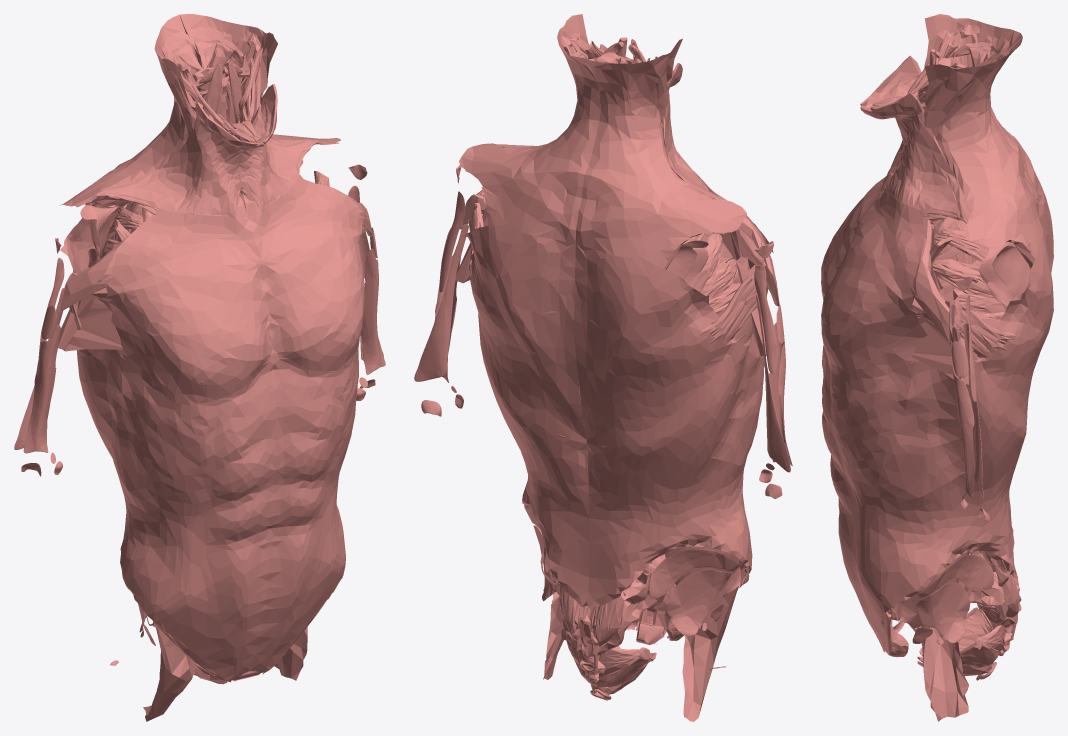
File: trunk.glb
3 views of the same model, side by side, from view 1: azimuth 30°, elevation 25°; view 2: azimuth 150°, elevation 25°; view 3: azimuth 270°, elevation 25° (orthographic). The views are drawn at different scales.
Parts seen in each view (by area): view 1: Investing abdominal fascia.r, Pectoral fascia.r, Investing abdominal fascia.l, Pectoral fascia.l, Platysma.r, Superficial investing cervical fascia.r, Platysma.l, Superficial investing cervical fascia.l, Clavipectoral fascia.r, Brachialis muscle.or, Iliopsoas fascia.r, Brachialis muscle.ol (+4 smaller); view 2: Investing abdominal fascia.r, Investing abdominal fascia.l, Superficial investing cervical fascia.r, Superficial investing cervical fascia.l, Iliopsoas fascia.r, Gluteus minimus muscle.or, Medial head of triceps brachii.ol, Sacrum, Latissimus dorsi muscle.r, Gluteus medius muscle.or, Serratus anterior muscle.r, Platysma.r (+11 smaller); view 3: Investing abdominal fascia.l, Pectoral fascia.l, Superficial investing cervical fascia.l, Platysma.l, Iliopsoas fascia.l, Serratus anterior muscle.l, Superficial investing cervical fascia.r, Gluteus minimus muscle.ol, Clavipectoral fascia.l, Pectoral fascia.r, Clavicular head of pectoralis major muscle.l, Latissimus dorsi muscle.l (+16 smaller).
Part boxes in pixels (x1,y1,x2,y2): Investing abdominal fascia.r: (60, 204, 277, 680); Pectoral fascia.r: (96, 210, 273, 405); Investing abdominal fascia.l: (249, 350, 358, 672); Pectoral fascia.l: (248, 175, 366, 371); Platysma.r: (96, 102, 260, 218); Superficial investing cervical fascia.r: (60, 15, 247, 218); Platysma.l: (239, 84, 318, 211); Superficial investing cervical fascia.l: (179, 14, 340, 216); Clavipectoral fascia.r: (58, 298, 122, 351); Brachialis muscle.or: (23, 325, 60, 453); Iliopsoas fascia.r: (143, 625, 196, 721); Brachialis muscle.ol: (361, 248, 385, 374); Investing abdominal fascia.r: (574, 240, 764, 632); Investing abdominal fascia.l: (461, 190, 589, 606); Superficial investing cervical fascia.r: (575, 38, 746, 257); Superficial investing cervical fascia.l: (459, 14, 599, 243); Iliopsoas fascia.r: (650, 554, 739, 721); Gluteus minimus muscle.or: (665, 569, 730, 635); Medial head of triceps brachii.ol: (414, 224, 468, 381); Sacrum: (559, 563, 665, 658); Latissimus dorsi muscle.r: (601, 274, 760, 566); Gluteus medius muscle.or: (649, 549, 740, 598); Serratus anterior muscle.r: (688, 233, 740, 323); Platysma.r: (662, 63, 717, 199); Investing abdominal fascia.l: (822, 229, 1053, 652); Pectoral fascia.l: (821, 192, 924, 381); Superficial investing cervical fascia.l: (884, 38, 1043, 249); Platysma.l: (860, 92, 972, 223); Iliopsoas fascia.l: (921, 624, 968, 721); Serratus anterior muscle.l: (908, 213, 1010, 365); Superficial investing cervical fascia.r: (869, 14, 1043, 207); Gluteus minimus muscle.ol: (916, 582, 970, 642); Clavipectoral fascia.l: (911, 215, 968, 384); Pectoral fascia.r: (821, 176, 885, 299); Clavicular head of pectoralis major muscle.l: (912, 218, 949, 343); Latissimus dorsi muscle.l: (952, 304, 1028, 571).
Bounding box in the file's own units: 0.4701 × 0.8053 × 0.2582.
